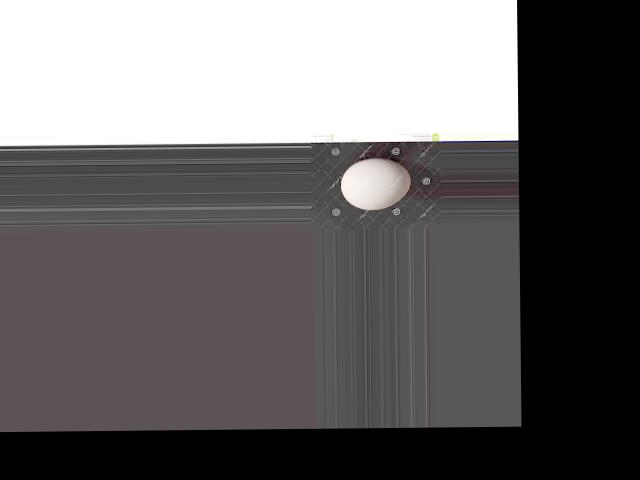egg: (339, 157, 410, 210)
